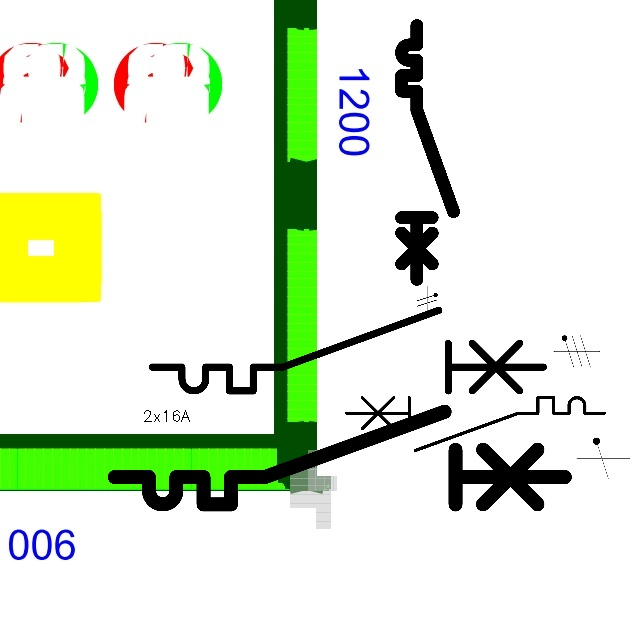interruptor_termomagnetico: (103, 400, 576, 516), (142, 300, 553, 401), (340, 391, 611, 457), (395, 19, 460, 286)
